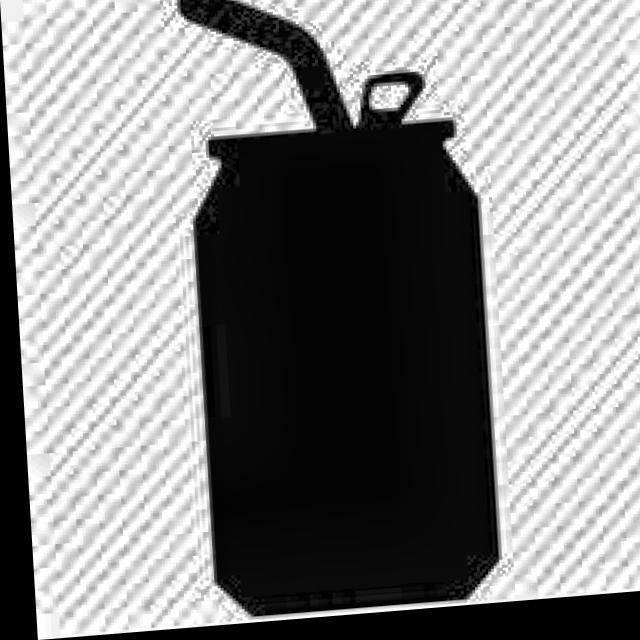can: (172, 73, 504, 628)
